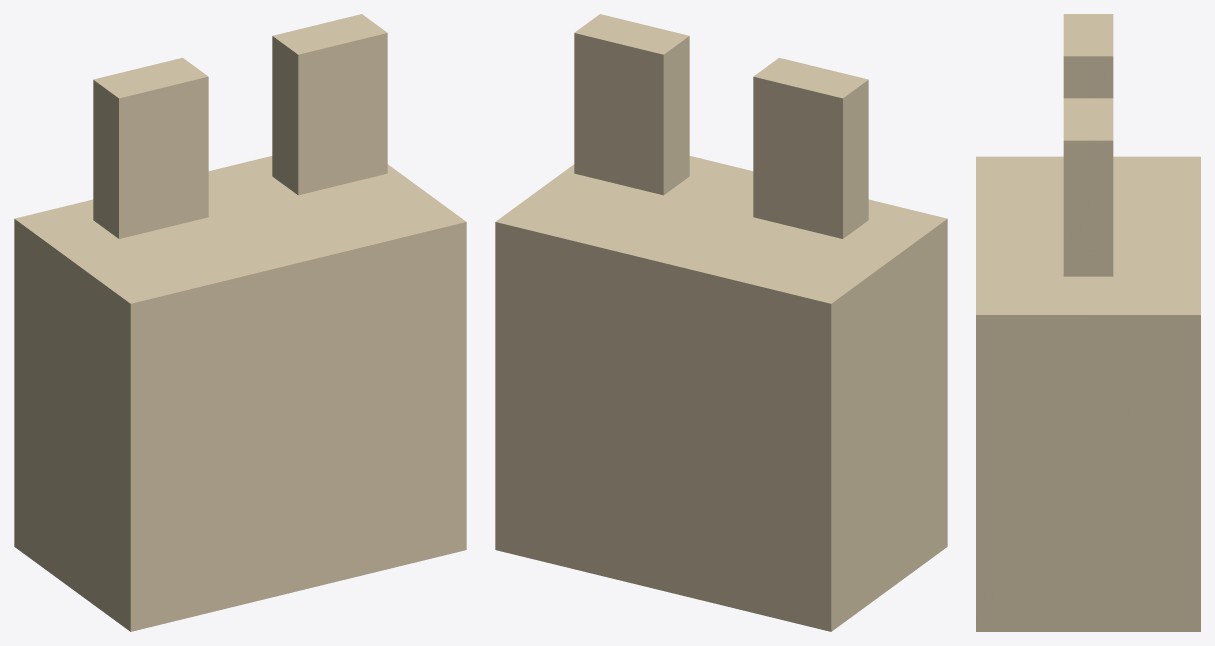
Rendered from 02_bag.glb.
3 views of the same model, side by side, from view 1: azimuth 30°, elevation 25°; view 2: azimuth 150°, elevation 25°; view 3: azimuth 270°, elevation 25° (orthographic). The views are drawn at different scales.
Visible parts, largest first — view 1: generic_02_bag; view 2: generic_02_bag; view 3: generic_02_bag.
Part boxes in pixels (x1,y1,x2,y2): generic_02_bag: [14, 14, 466, 631]; generic_02_bag: [495, 14, 947, 631]; generic_02_bag: [976, 14, 1200, 631].
Bounding box in the file's own units: 0.3 × 0.42 × 0.18.
